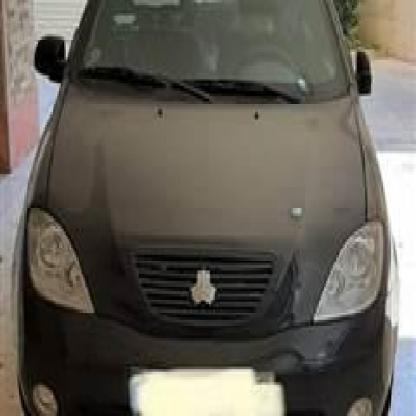Car: (11, 0, 400, 416)
